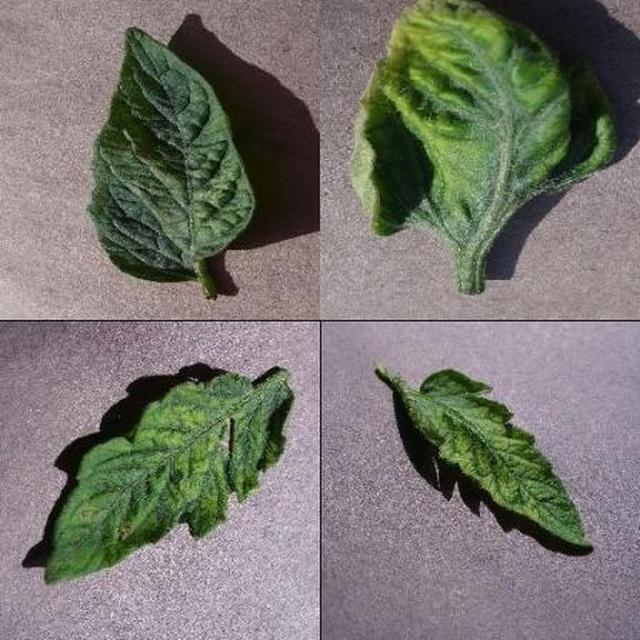Spider Mites Leaf: (234, 169, 640, 640)
